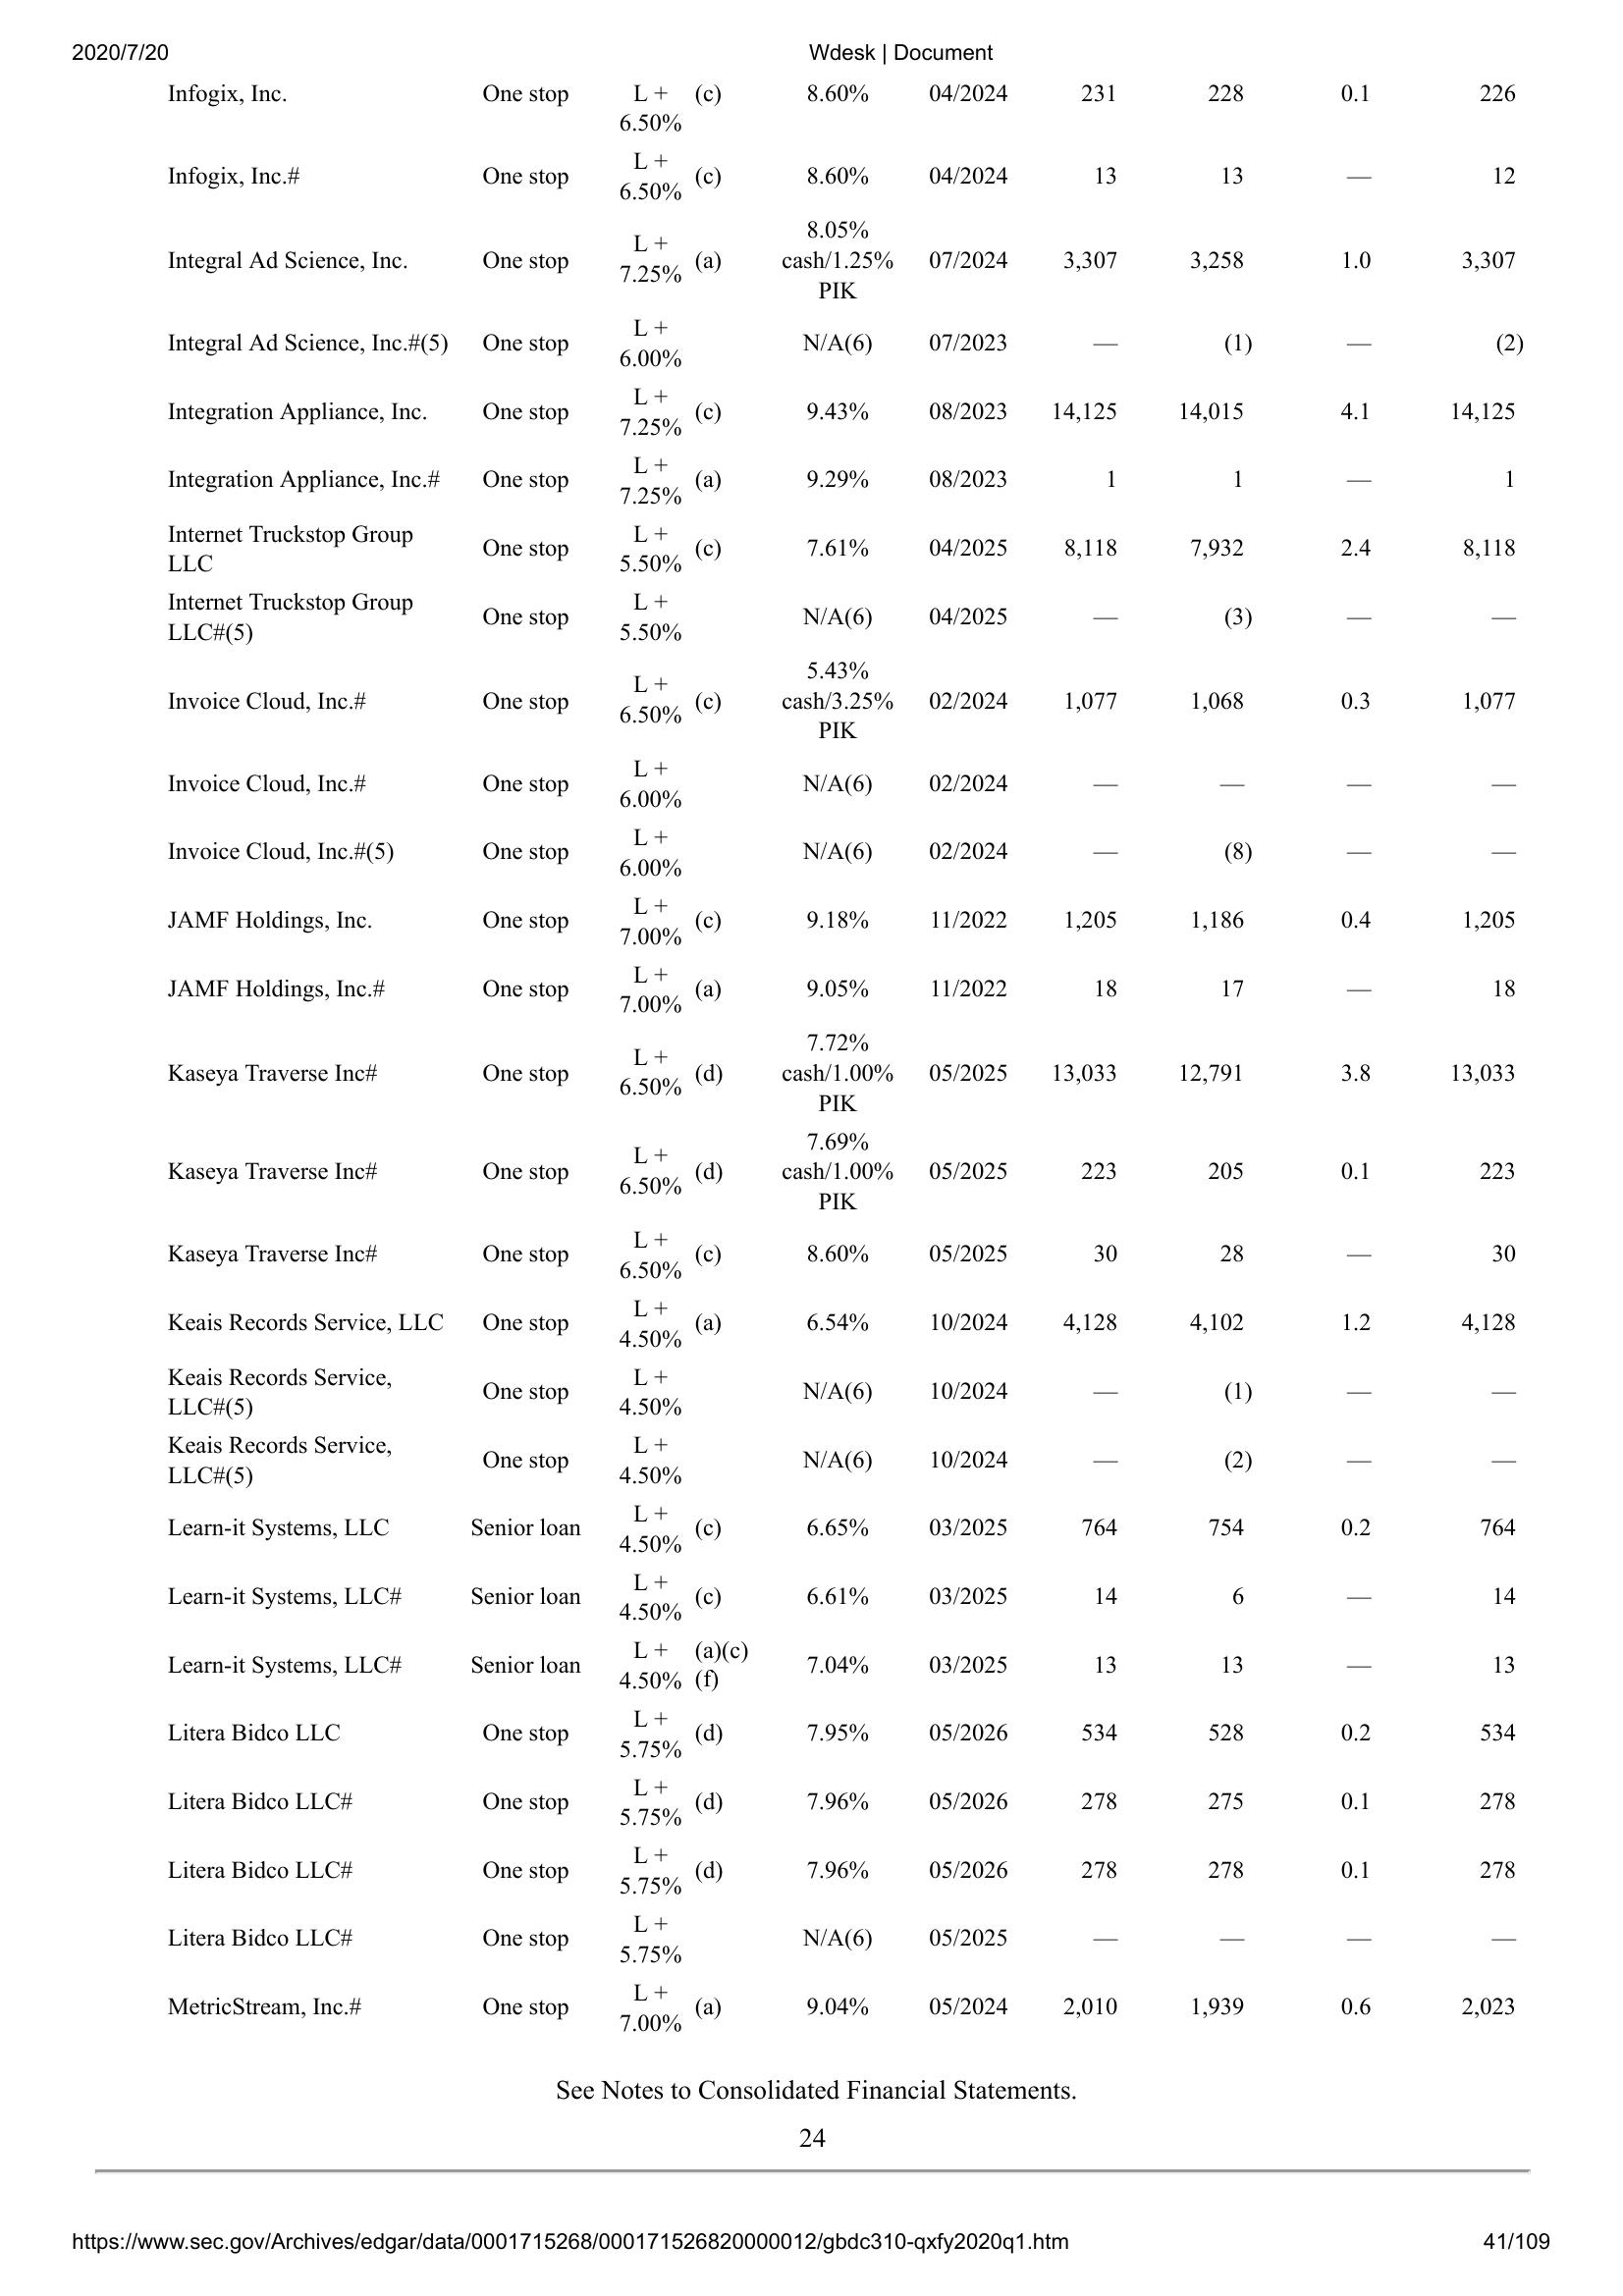table: (144, 47, 1530, 2047)
